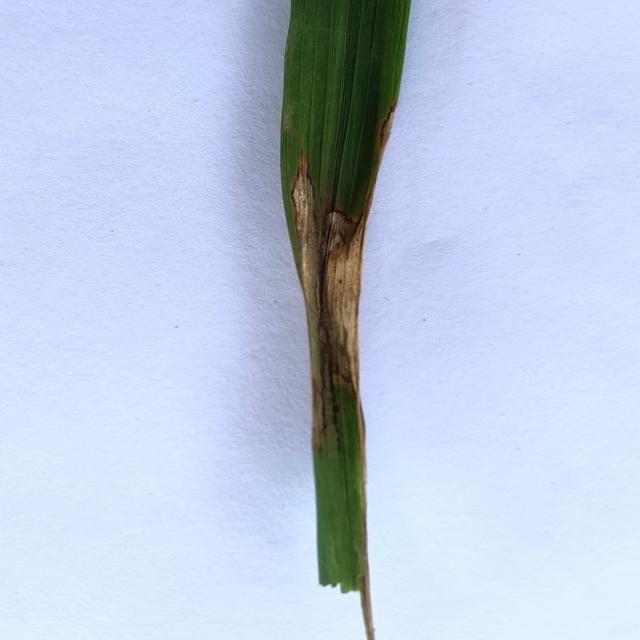Leaf Blight: (291, 105, 394, 640)
